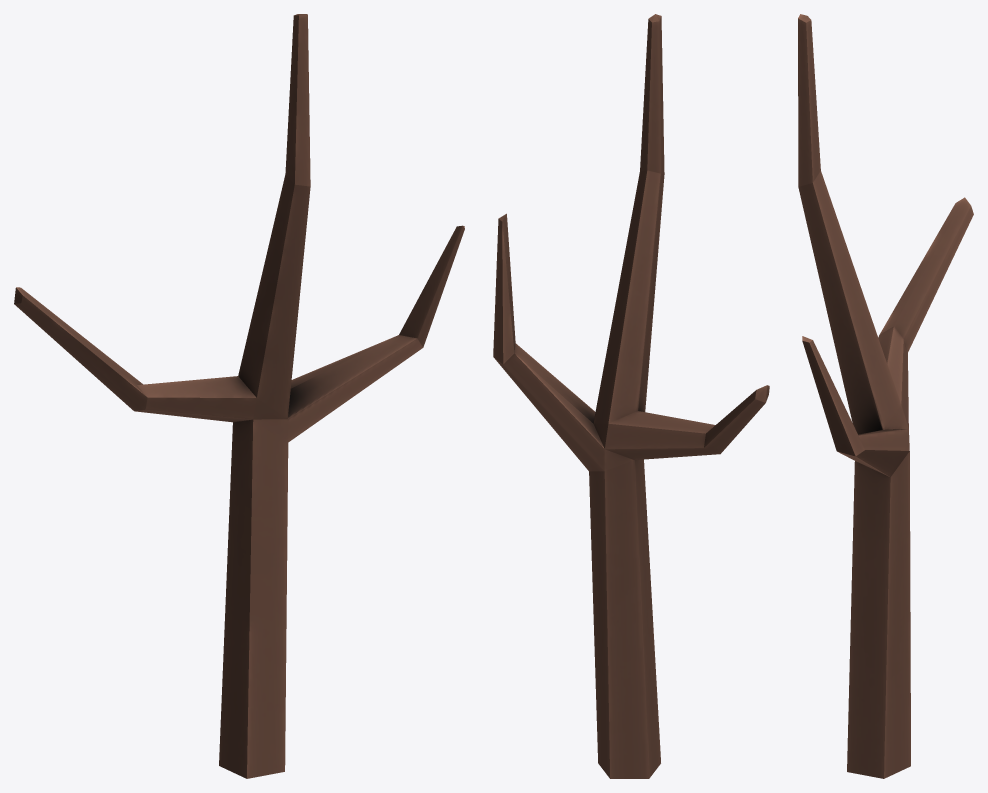
The model's file is Tree_3.fbx.
The picture shows the model from 3 angles, left to right: view 1: azimuth 30°, elevation 25°; view 2: azimuth 150°, elevation 25°; view 3: azimuth 270°, elevation 25°; orthographic projection. The views are drawn at different scales.
Parts seen in each view (by area): view 1: Tree_3; view 2: Tree_3; view 3: Tree_3.
Part boxes in pixels (left/top/right/bottom): Tree_3: left=14, top=14, right=464, bottom=778; Tree_3: left=493, top=14, right=769, bottom=778; Tree_3: left=798, top=14, right=973, bottom=778.
Bounding box in the file's own units: 49.01 × 98.61 × 20.88.
